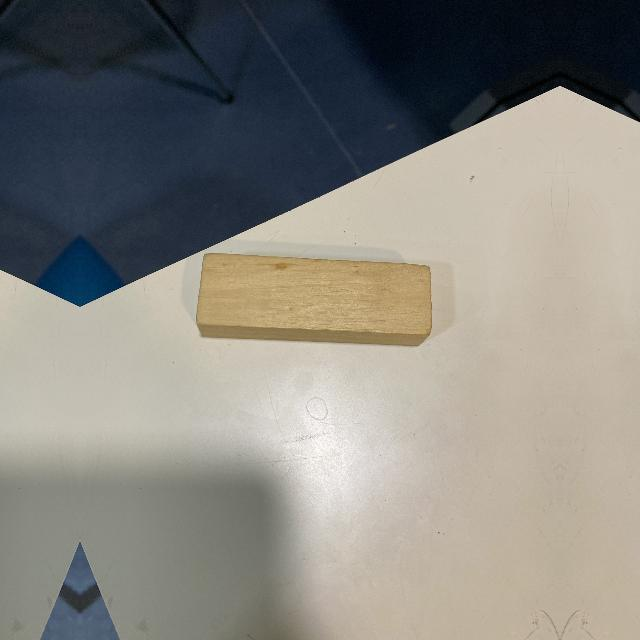jenga: (197, 254, 432, 347)
